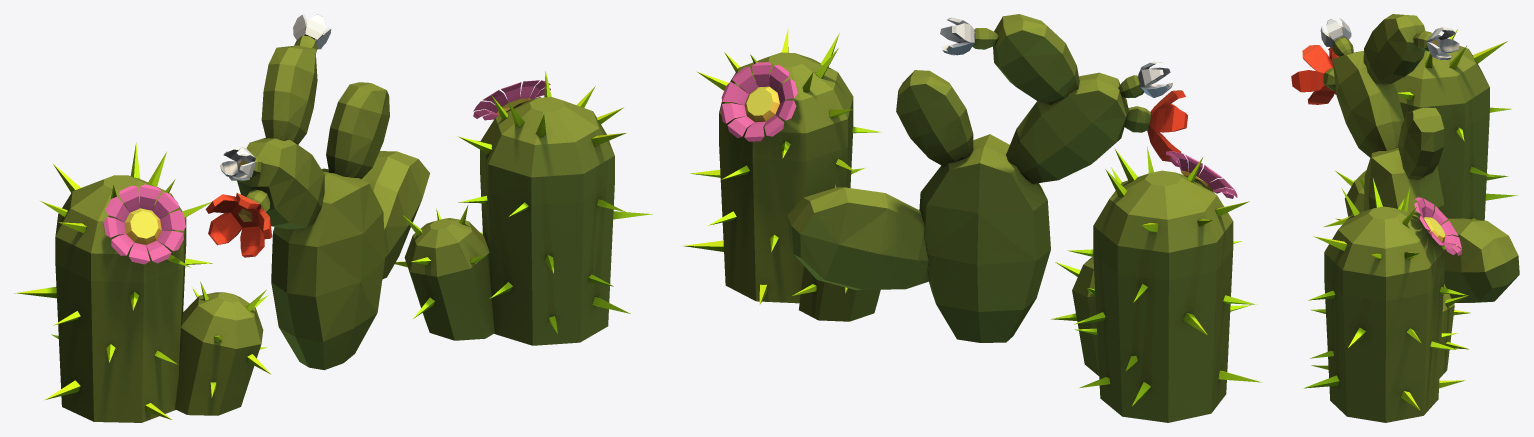
The model's file is cactus.fbx.
3 renders of one model, left to right at view 1: azimuth 30°, elevation 25°; view 2: azimuth 150°, elevation 25°; view 3: azimuth 270°, elevation 25°, orthographic. The views are drawn at different scales.
Visible parts, largest first — view 1: cactus; view 2: cactus; view 3: cactus.
Part boxes in pixels (x1,y1,x2,y2): cactus: (14,14,652,422); cactus: (683,14,1262,422); cactus: (1291,14,1519,422).
Bounding box in the file's own units: 304 × 167 × 121.
